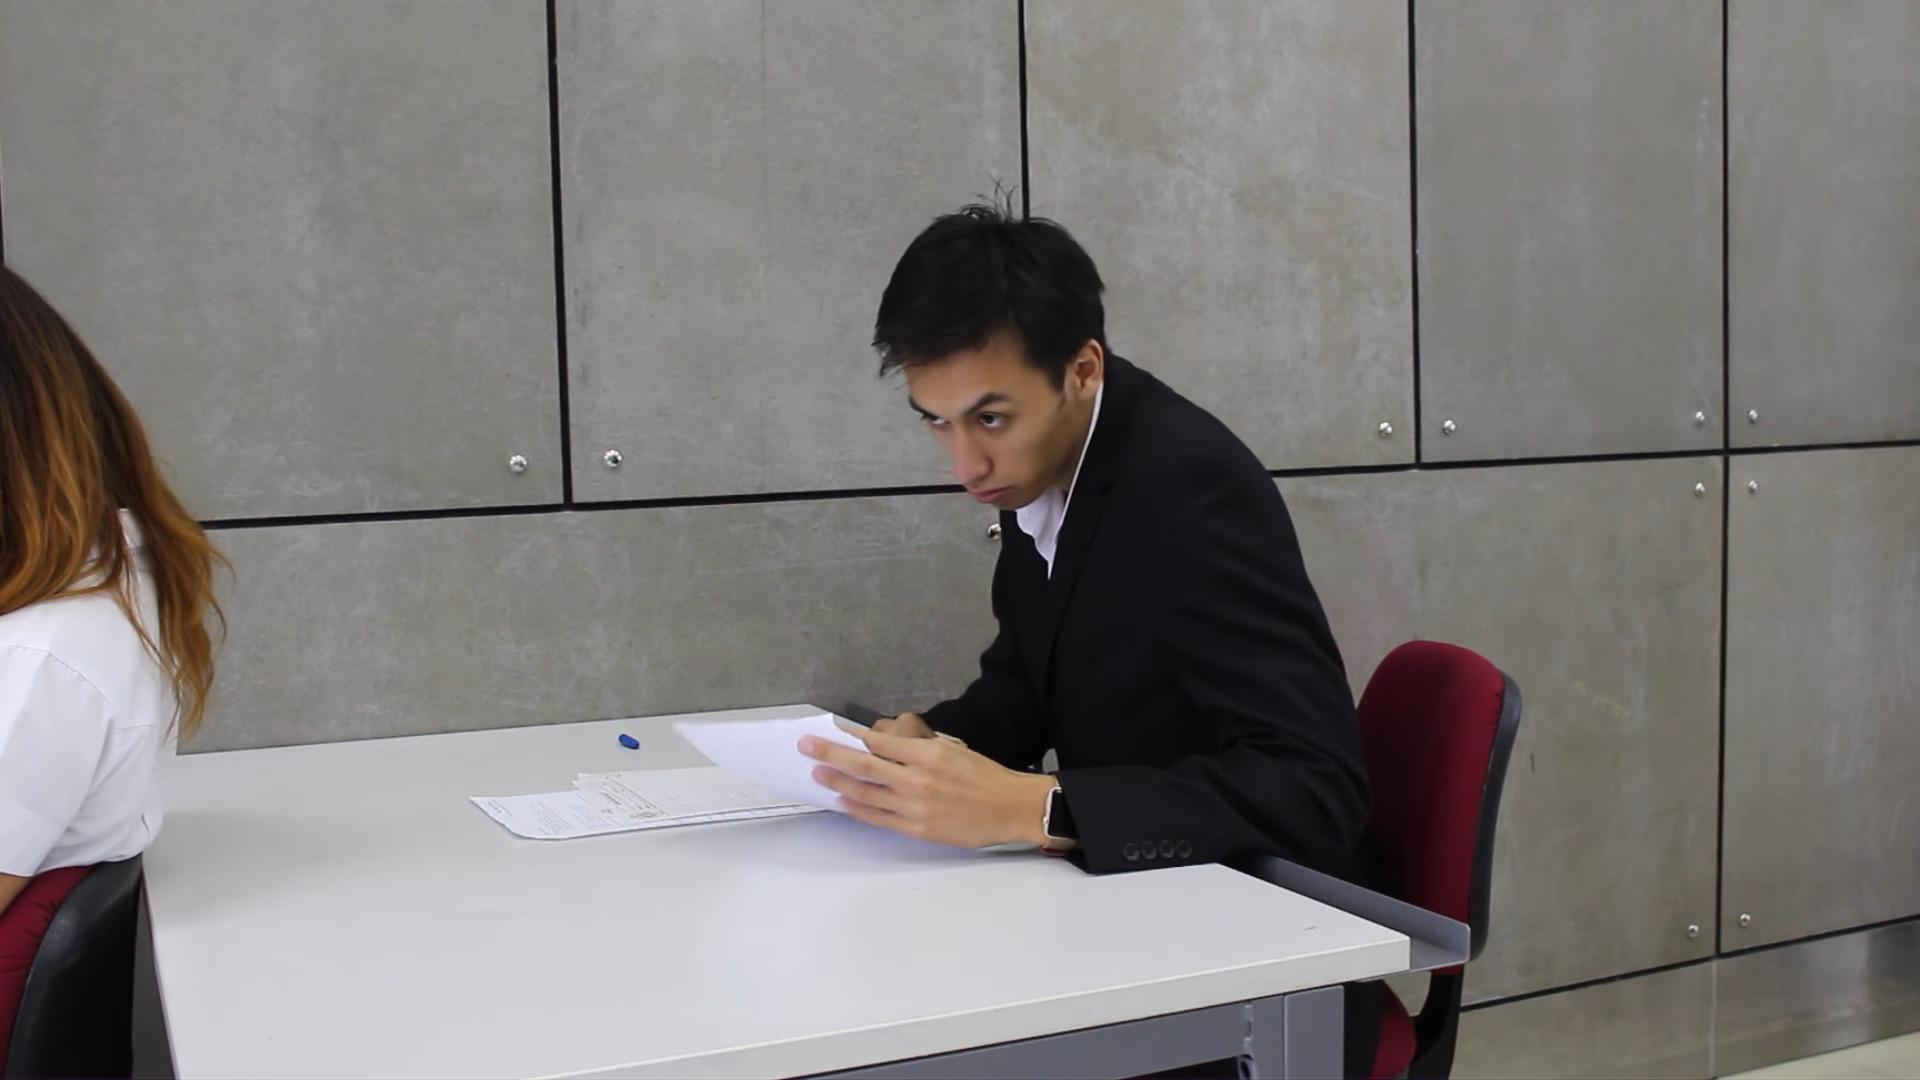cheating: (430, 170, 1425, 895)
